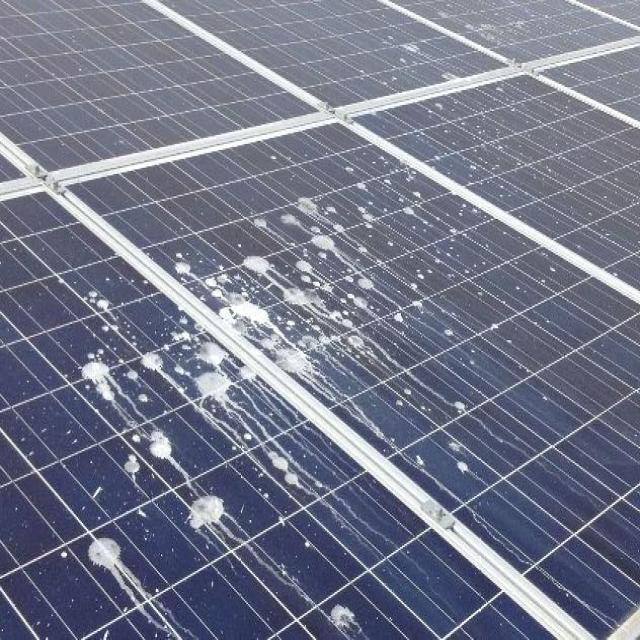soiled: (15, 76, 640, 640), (207, 3, 640, 108)
